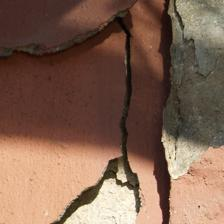Crack: (39, 82, 97, 224), (26, 26, 96, 121), (4, 12, 134, 51), (95, 50, 126, 162)
